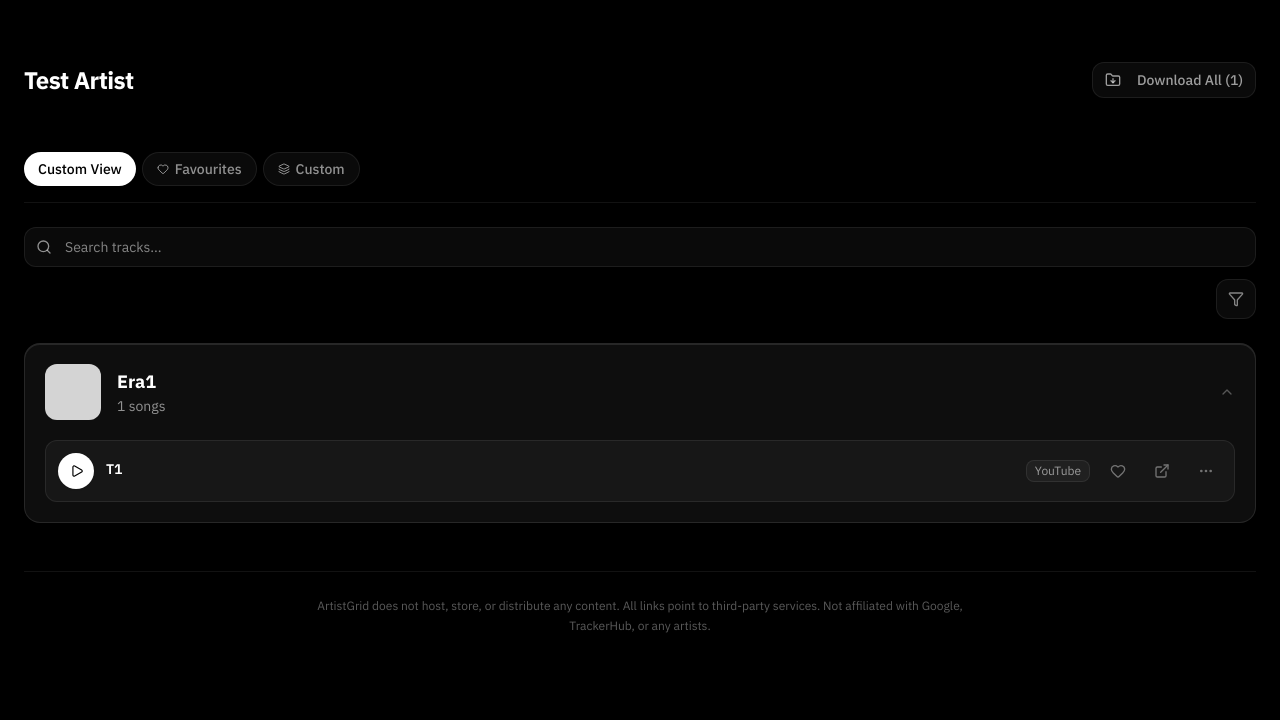
Test: TrackerViewPage › filters tracks by the search query
Earlier steps of the test are not shown.
Check: the text "T1" is shown, box [106,460,122,478]
Type "zzzznotfound" into the field with placeholder "Search tracks..." at {"x": 640, "y": 247}, box [24,227,1256,267]
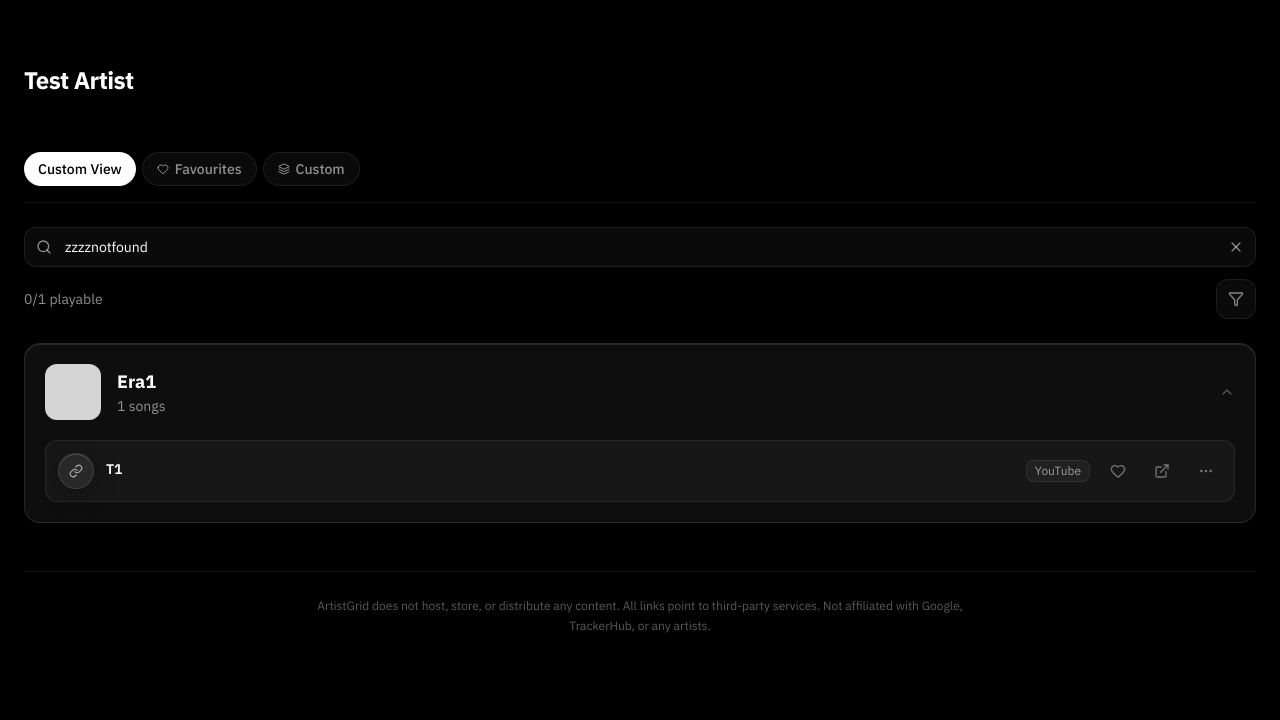
Replace the text in the field with placeholder "Search tracks..." with "T1" at {"x": 640, "y": 247}, box [24,227,1256,267]
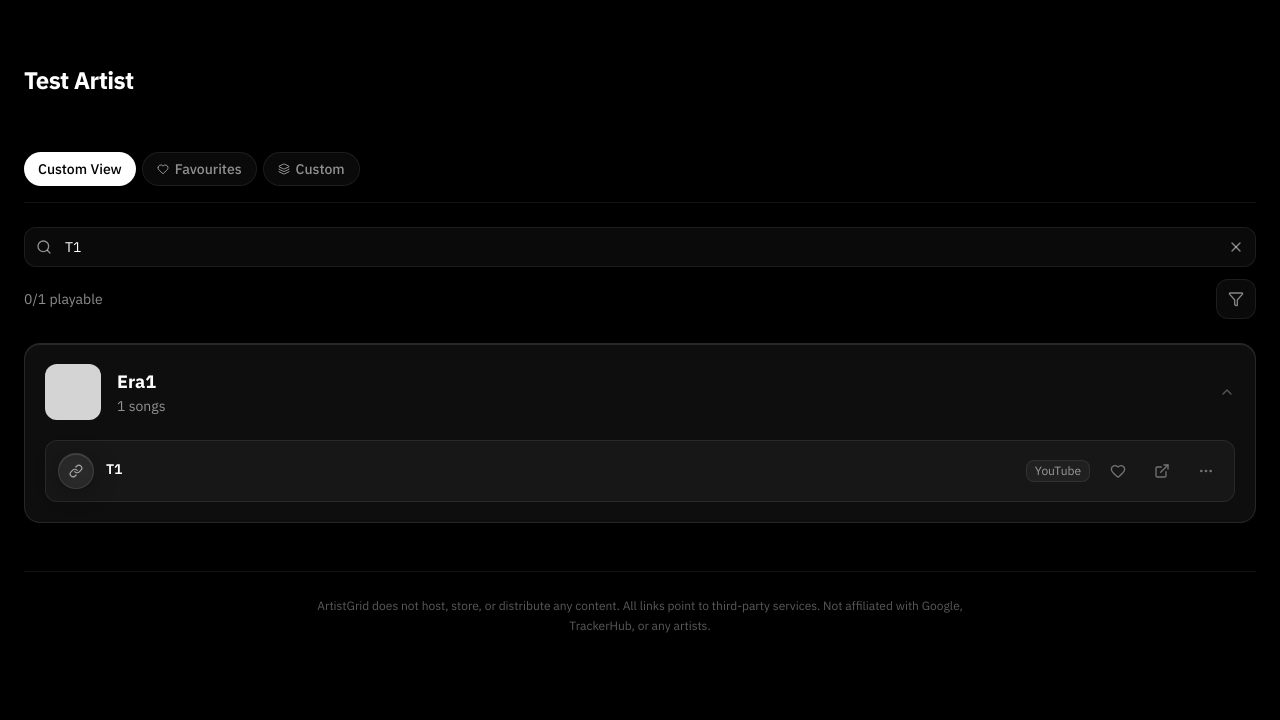
Check: the button named "Clear search" is shown
Click the button named "Clear search" at {"x": 1236, "y": 247}, box [1228,239,1244,255]
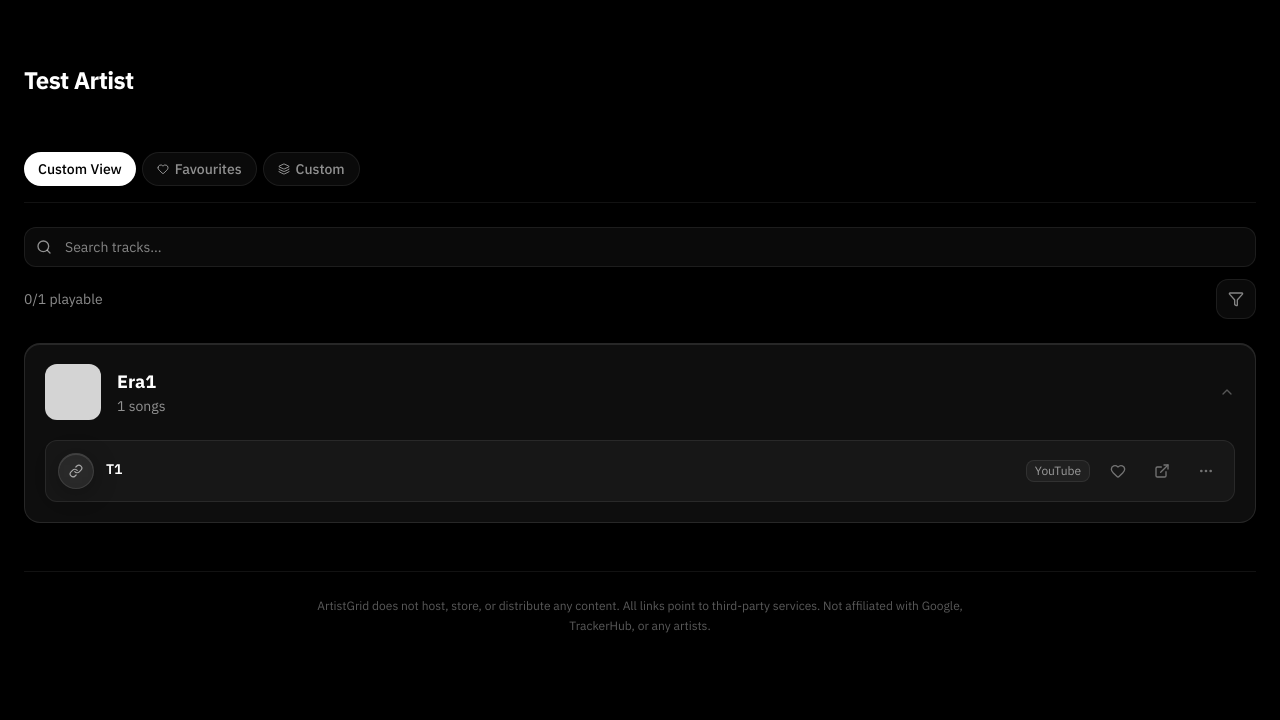
Check: the field with placeholder "Search tracks..." is empty, box [24,227,1256,267]
